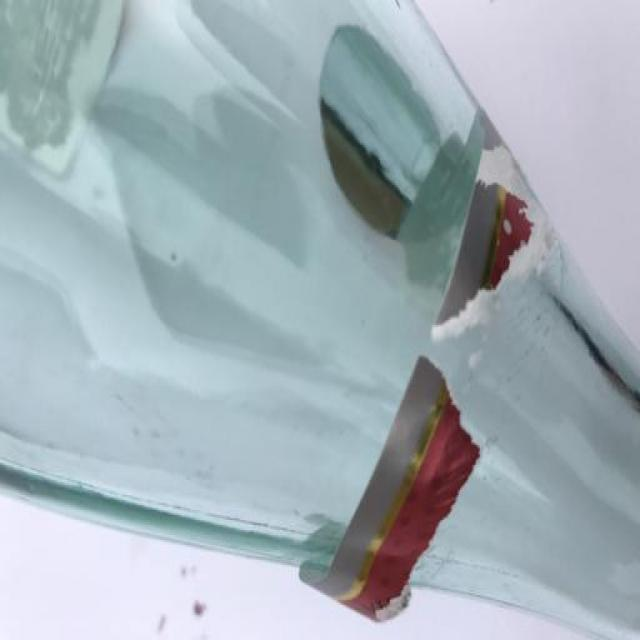Waste: (0, 2, 640, 638)
